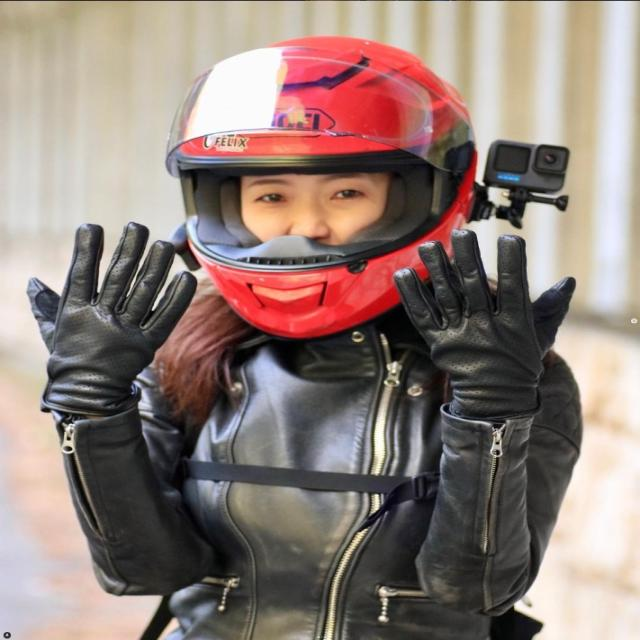helmet: (156, 30, 481, 346)
